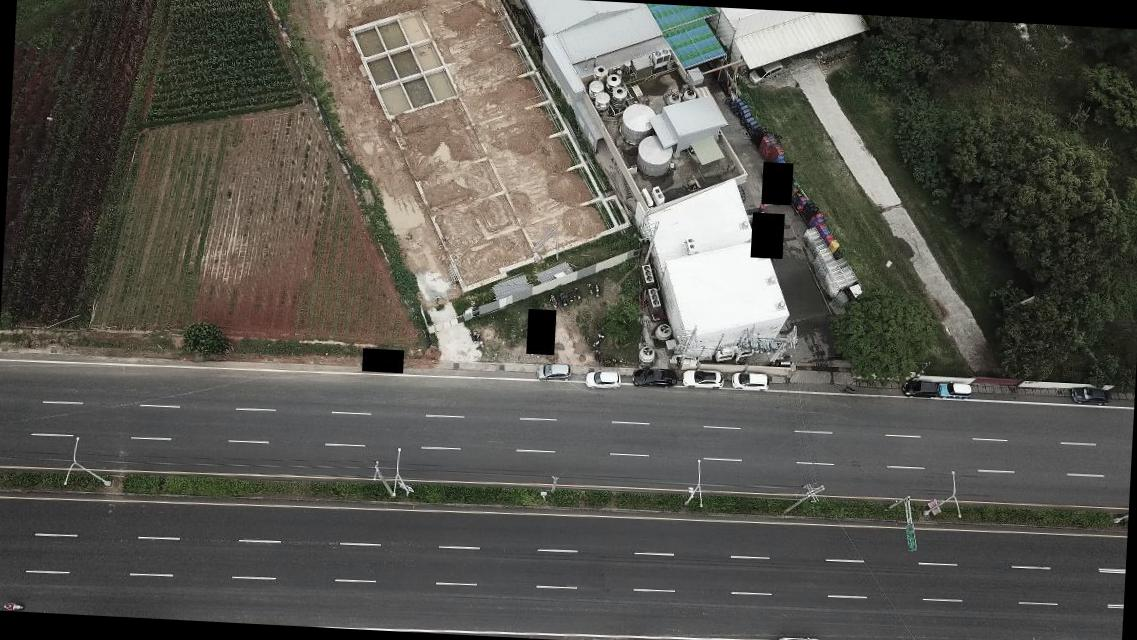vehicle: (632, 366, 676, 389), (535, 359, 572, 384), (681, 369, 724, 390), (1066, 386, 1111, 406), (730, 369, 768, 392), (900, 378, 939, 400), (584, 369, 622, 390), (936, 382, 972, 401), (775, 633, 823, 639)
